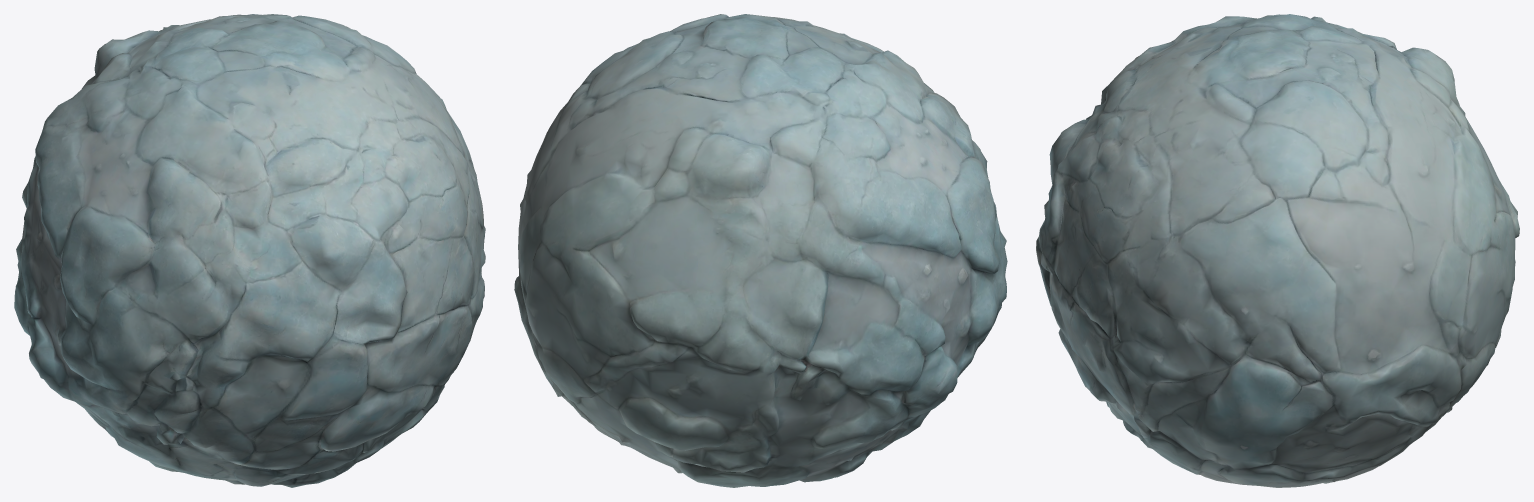
Rendered from ice_planet_5.glb.
The picture shows the model from 3 angles, left to right: view 1: azimuth 30°, elevation 25°; view 2: azimuth 150°, elevation 25°; view 3: azimuth 270°, elevation 25°; orthographic projection.
Visible parts, largest first — view 1: Mesh_0.030; view 2: Mesh_0.030; view 3: Mesh_0.030.
Boxes of the visible parts, left/top/right/bottom form: Mesh_0.030: left=14, top=14, right=485, bottom=487; Mesh_0.030: left=514, top=14, right=1007, bottom=487; Mesh_0.030: left=1036, top=14, right=1519, bottom=487.
Bounding box in the file's own units: 2 × 1.95 × 2.
Materials: 1 (1 with a texture image).
